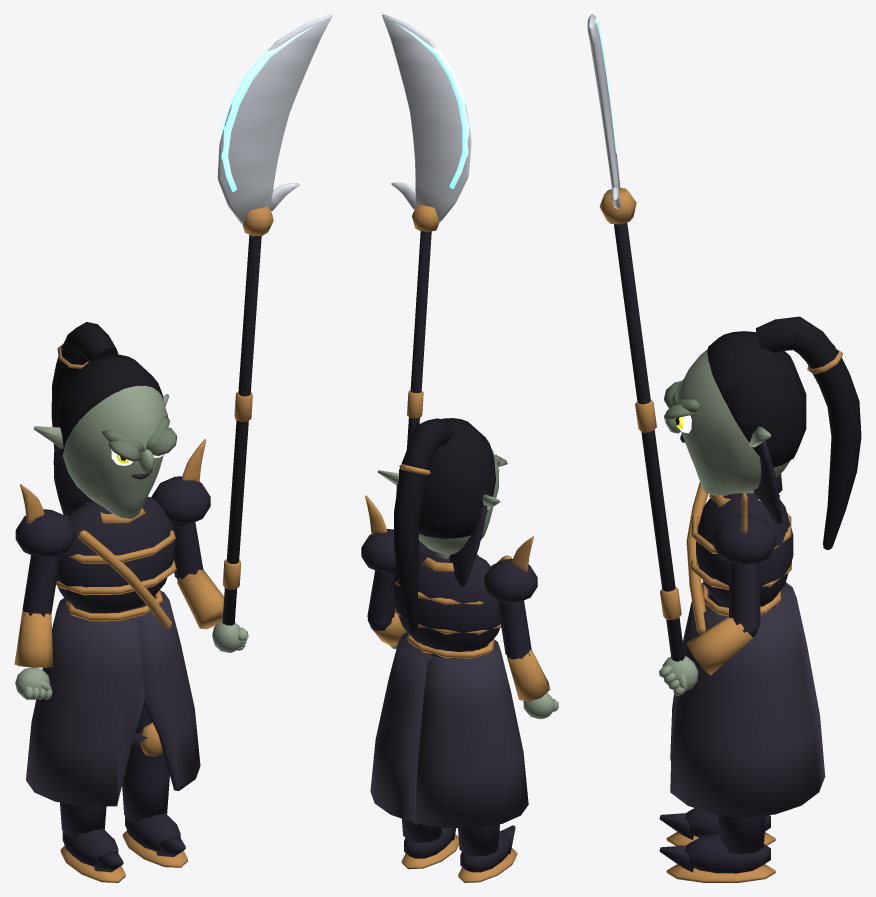
File: npc_corvus_glaive.glb
3 views of the same model, side by side, from view 1: azimuth 30°, elevation 25°; view 2: azimuth 150°, elevation 25°; view 3: azimuth 270°, elevation 25° (orthographic). The views are drawn at different scales.
Parts seen in each view (by area): view 1: Body, ArmR, Head, ArmL, LegR, LegL; view 2: Body, ArmR, Head, ArmL, LegL, LegR; view 3: Body, Head, ArmR, LegR, LegL.
Boxes of the visible parts, x1=… form: Body: x1=26, y1=444, x2=200, y2=806; ArmR: x1=151, y1=14, x2=332, y2=652; Head: x1=33, y1=322, x2=177, y2=518; ArmL: x1=14, y1=484, x2=74, y2=699; LegR: x1=122, y1=703, x2=187, y2=867; LegL: x1=60, y1=802, x2=125, y2=882; Body: x1=370, y1=484, x2=528, y2=828; ArmR: x1=361, y1=14, x2=471, y2=649; Head: x1=377, y1=418, x2=507, y2=630; ArmL: x1=484, y1=536, x2=558, y2=719; LegL: x1=458, y1=824, x2=517, y2=882; LegR: x1=401, y1=819, x2=458, y2=869; Body: x1=670, y1=441, x2=825, y2=817; Head: x1=664, y1=316, x2=861, y2=549; ArmR: x1=587, y1=14, x2=775, y2=695; LegR: x1=659, y1=815, x2=775, y2=882; LegL: x1=659, y1=808, x2=775, y2=845.
Size of the model in its own units: 0.5948 by 1.92 by 0.5265.
